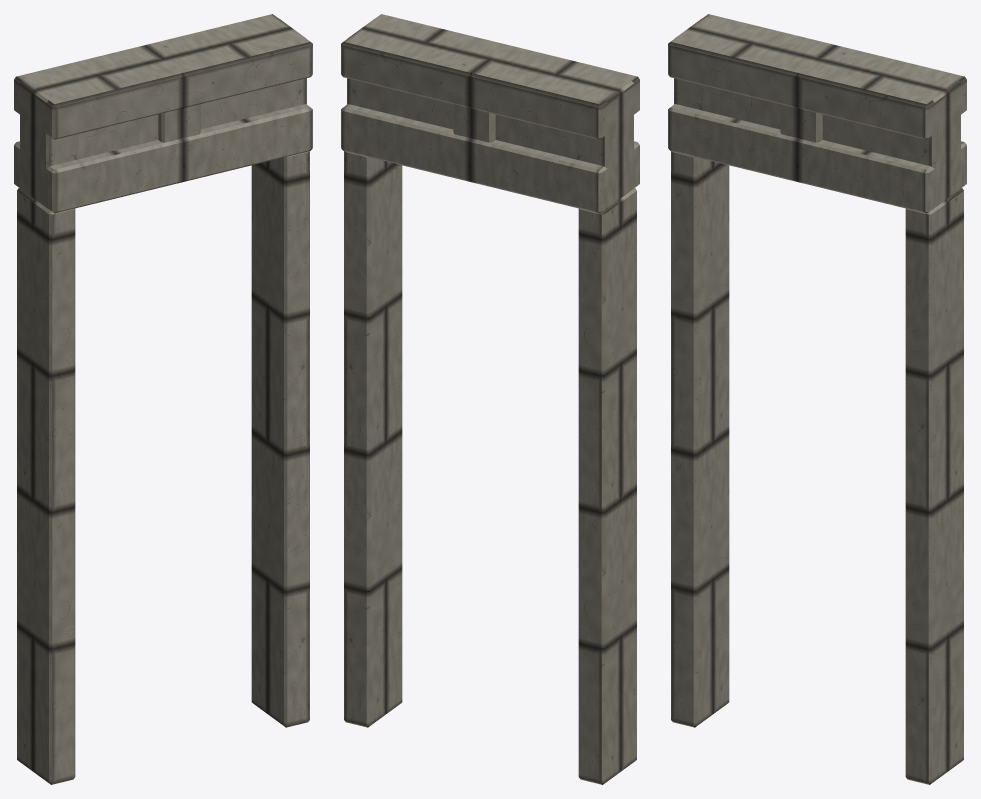
File: doorframe_marble.glb
3 views of the same model, side by side, from view 1: azimuth 30°, elevation 25°; view 2: azimuth 150°, elevation 25°; view 3: azimuth 330°, elevation 25° (orthographic).
Parts seen in each view (by area): view 1: doorframe_marble; view 2: doorframe_marble; view 3: doorframe_marble.
Part boxes in pixels (x1,y1,x2,y2): doorframe_marble: (14, 14, 312, 784); doorframe_marble: (341, 14, 639, 784); doorframe_marble: (668, 14, 966, 784).
Bounding box in the file's own units: 1 × 2.5 × 0.27.
1 material, 1 textured.
